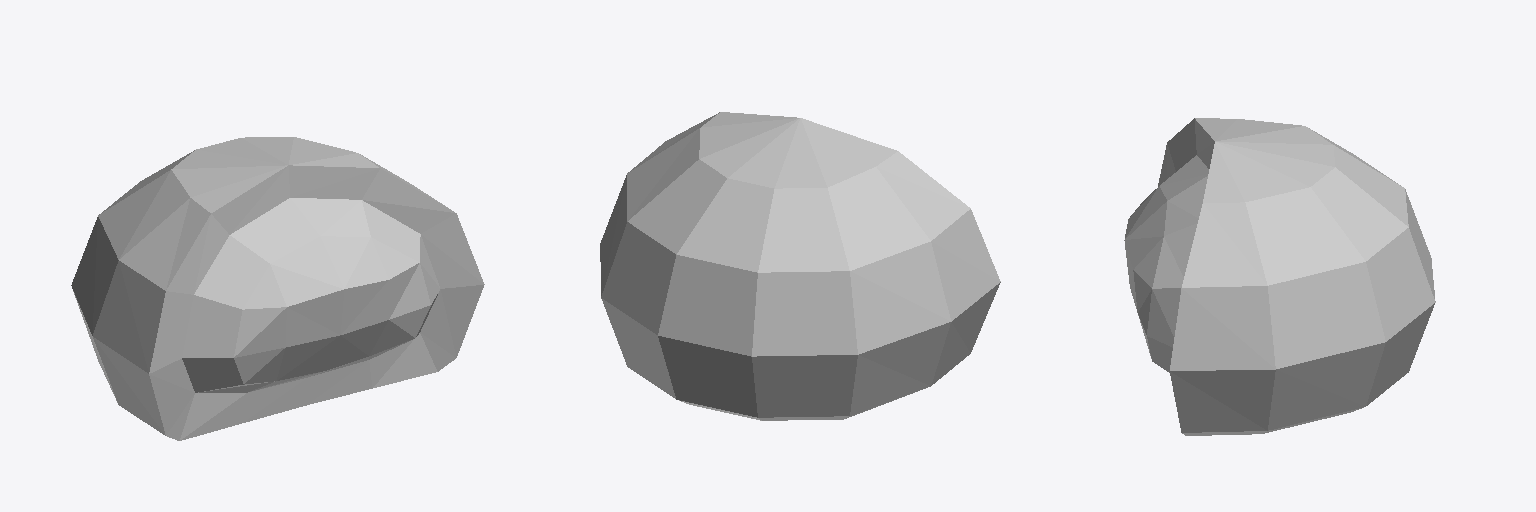
The model's file is Mochi.OBJ.
3 views of the same model, side by side, from view 1: azimuth 30°, elevation 25°; view 2: azimuth 150°, elevation 25°; view 3: azimuth 270°, elevation 25° (orthographic).
Size of the model in its own units: 0.0938 by 0.0591 by 0.0729.